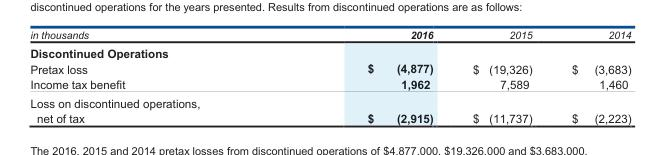table: (29, 28, 630, 124)
table column: (29, 28, 245, 124), (245, 28, 452, 124), (452, 28, 551, 124), (551, 28, 630, 124)
table column header: (29, 28, 630, 43)
table projected row header: (29, 43, 630, 60), (29, 93, 630, 110)
table row: (29, 43, 630, 60), (29, 76, 630, 93), (29, 93, 630, 110), (29, 60, 630, 76), (29, 28, 630, 43), (29, 110, 630, 124)
